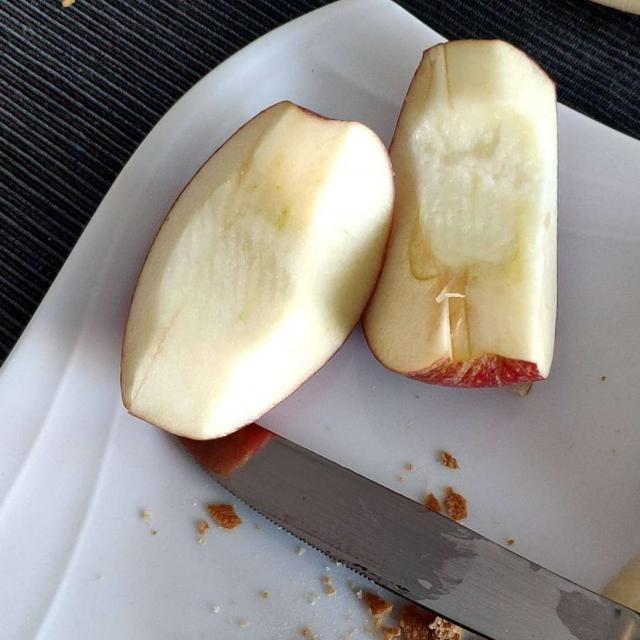apple: (129, 26, 570, 443)
